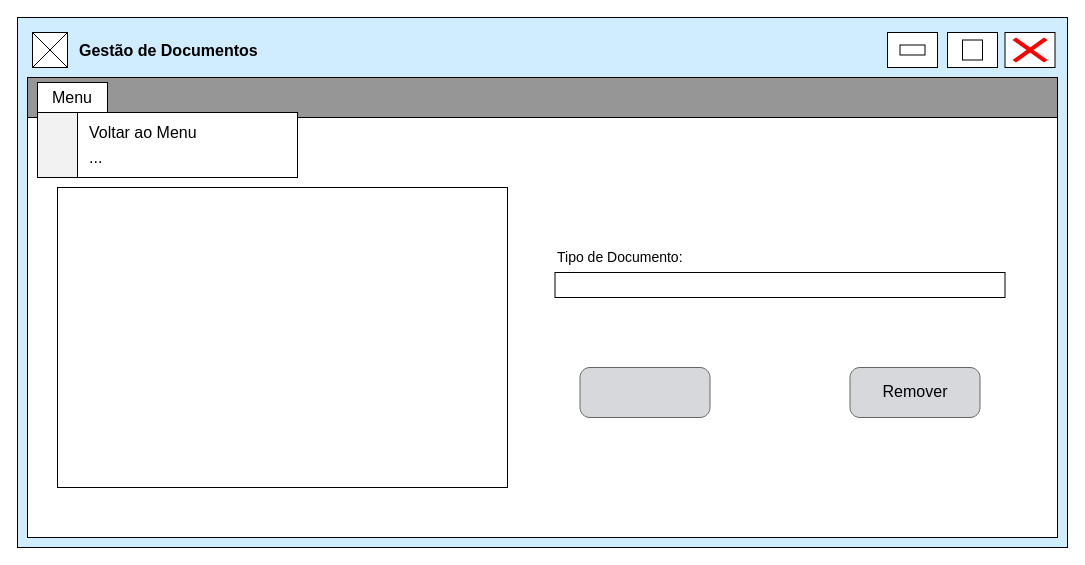
Image size: 1085x565. Some labels were removed from this diagram. The shapes that lost their labels are listed below. From the top down, each one's centre as x and y in pixels, then its label:
At (x=282, y=337): "ListBox Documentos".
At (x=644, y=392): "Adicionar".
